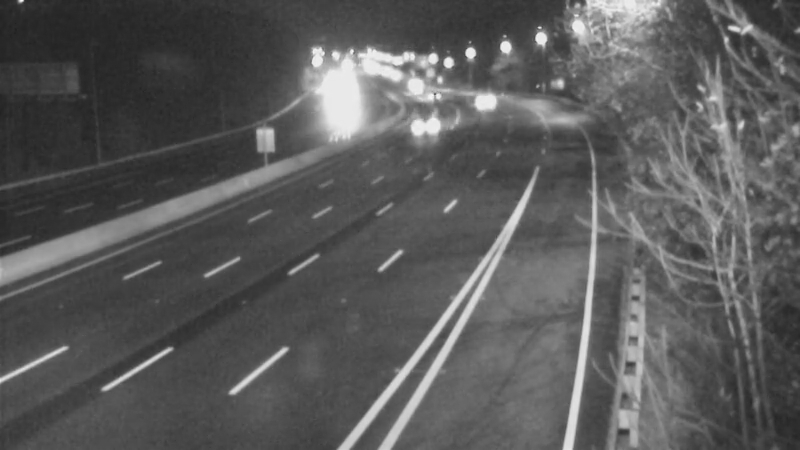vehicle: (388, 58, 438, 108), (402, 70, 452, 120), (454, 76, 504, 126), (401, 99, 451, 149), (307, 79, 357, 129)
